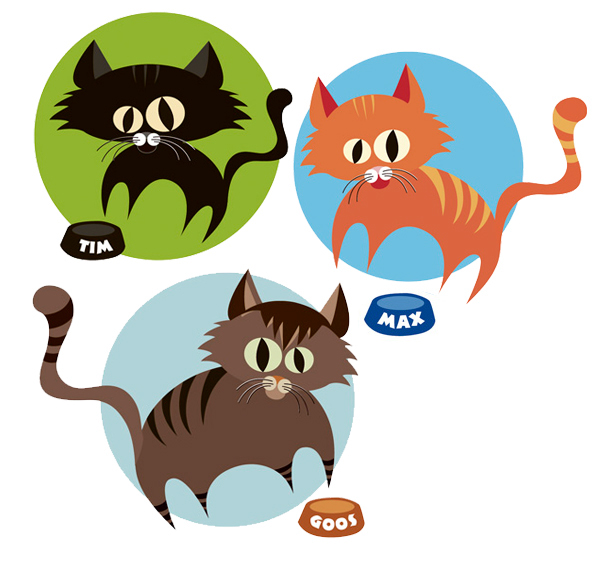cat: (37, 269, 356, 534), (300, 63, 597, 309), (49, 31, 300, 249)
